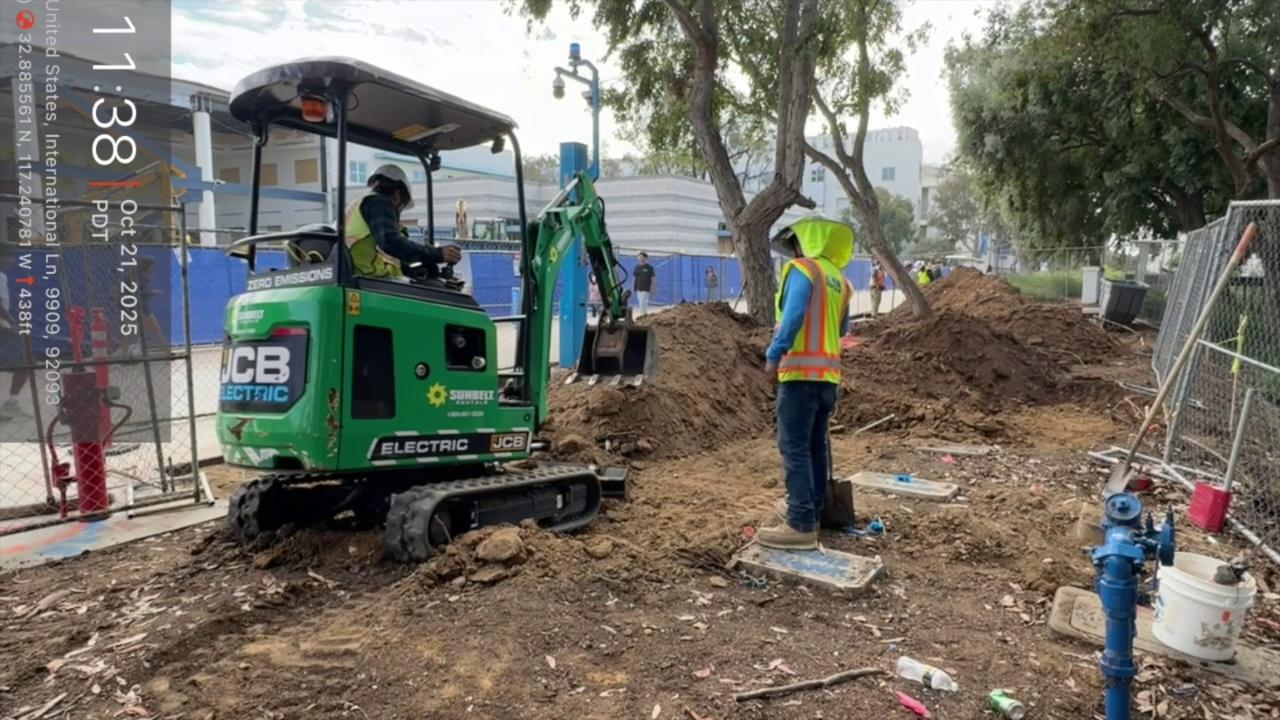Exacavator: (213, 52, 658, 565)
